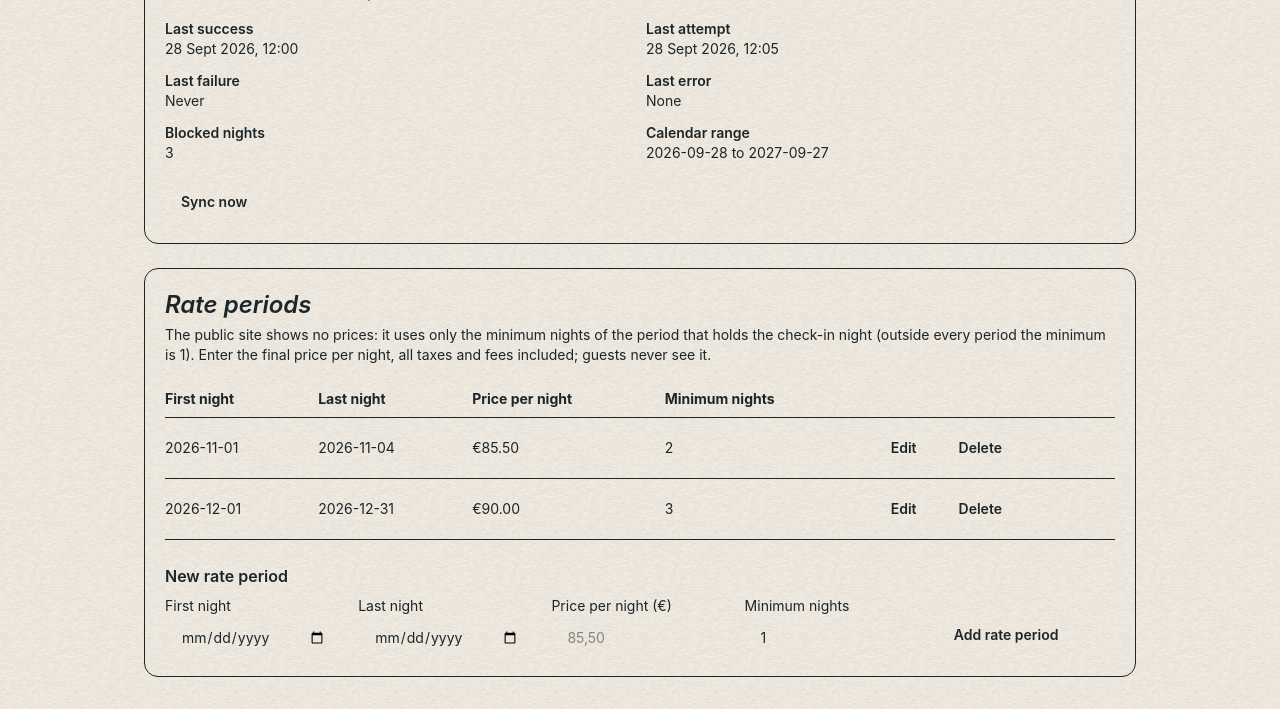
admin availability & prices › rate periods › keeps the deleted message when the list reload fails
The width and height of the screenshot is (1280, 709).
(page scrolled)
Check: the table named "Rate periods" is shown, box [165,381,1115,540]
What coordinates should you click on to do the following:
click the button with aria-label "Delete 2026-11-01 to 2026-11-04"
I would click on:
 (980, 448)
Its box is [942,426,1019,470].
(page scrolled)
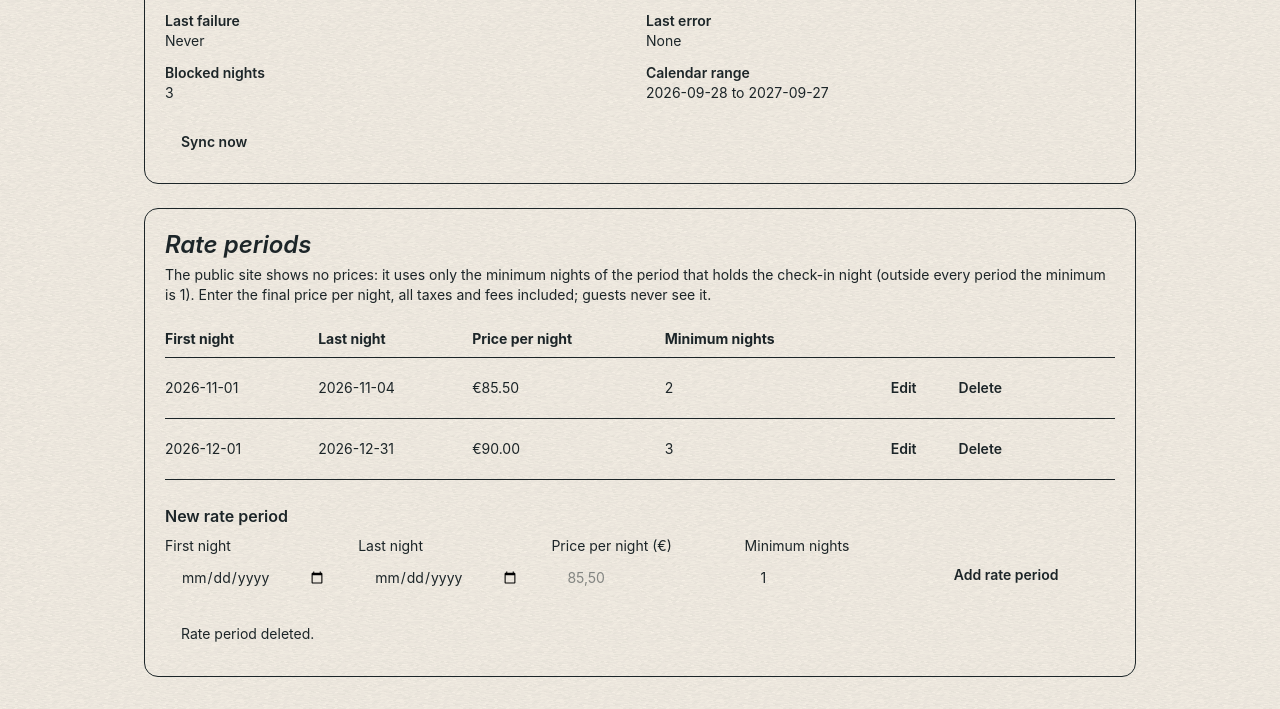
Check: the text "Rate period deleted." is shown, box [181,625,314,642]
